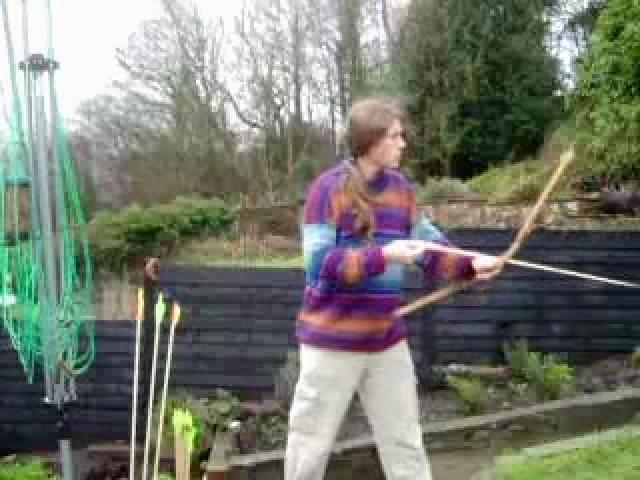I: (269, 80, 494, 480)
